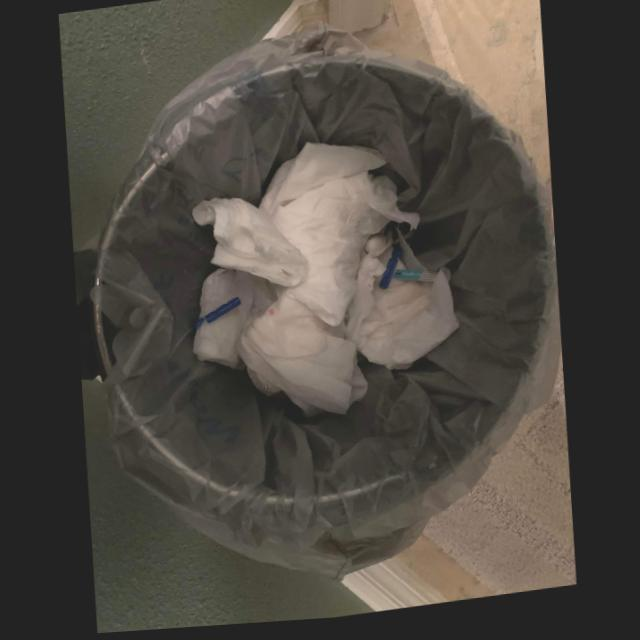paper: (259, 146, 421, 334), (237, 297, 369, 420), (356, 254, 460, 375), (191, 200, 310, 292), (193, 271, 280, 372)
